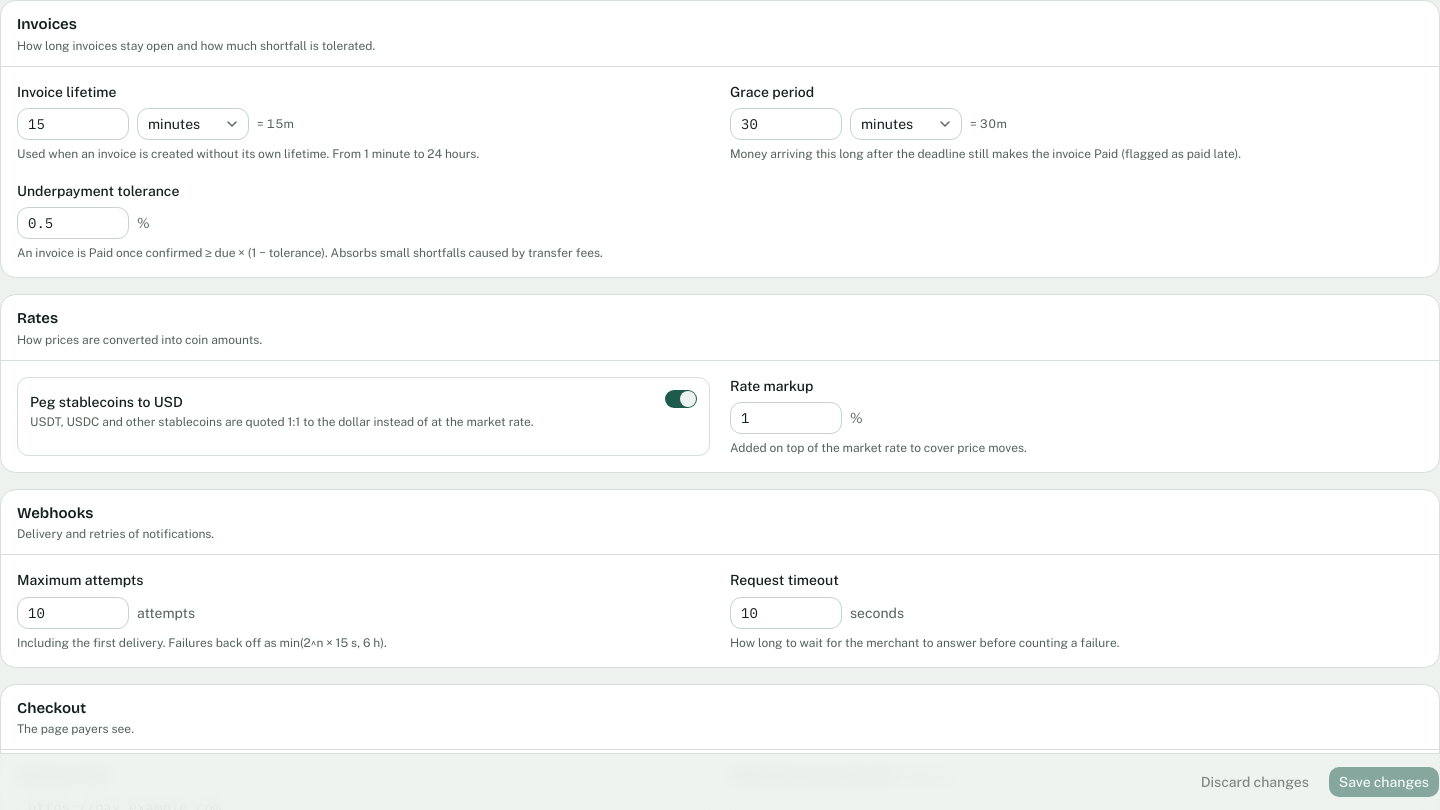
Test: SettingsForm › validates in operator units before saving
The width and height of the screenshot is (1440, 810).
Replace the text in the field labelled "Underpayment tolerance" with "0.555": x=73, y=223 17,207 -> 129,239
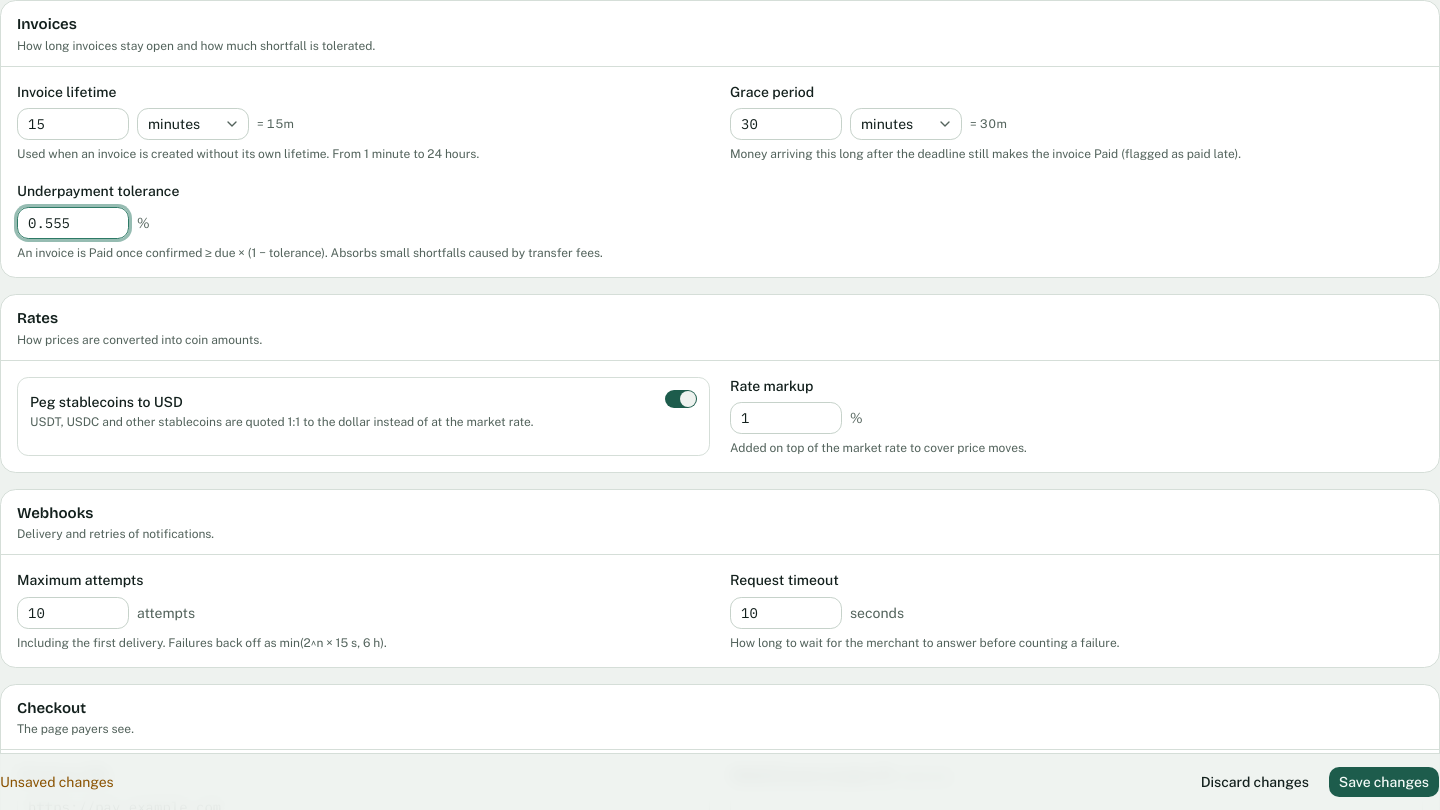
Clear the field labelled "Maximum attempts": x=73, y=612 17,596 -> 129,628
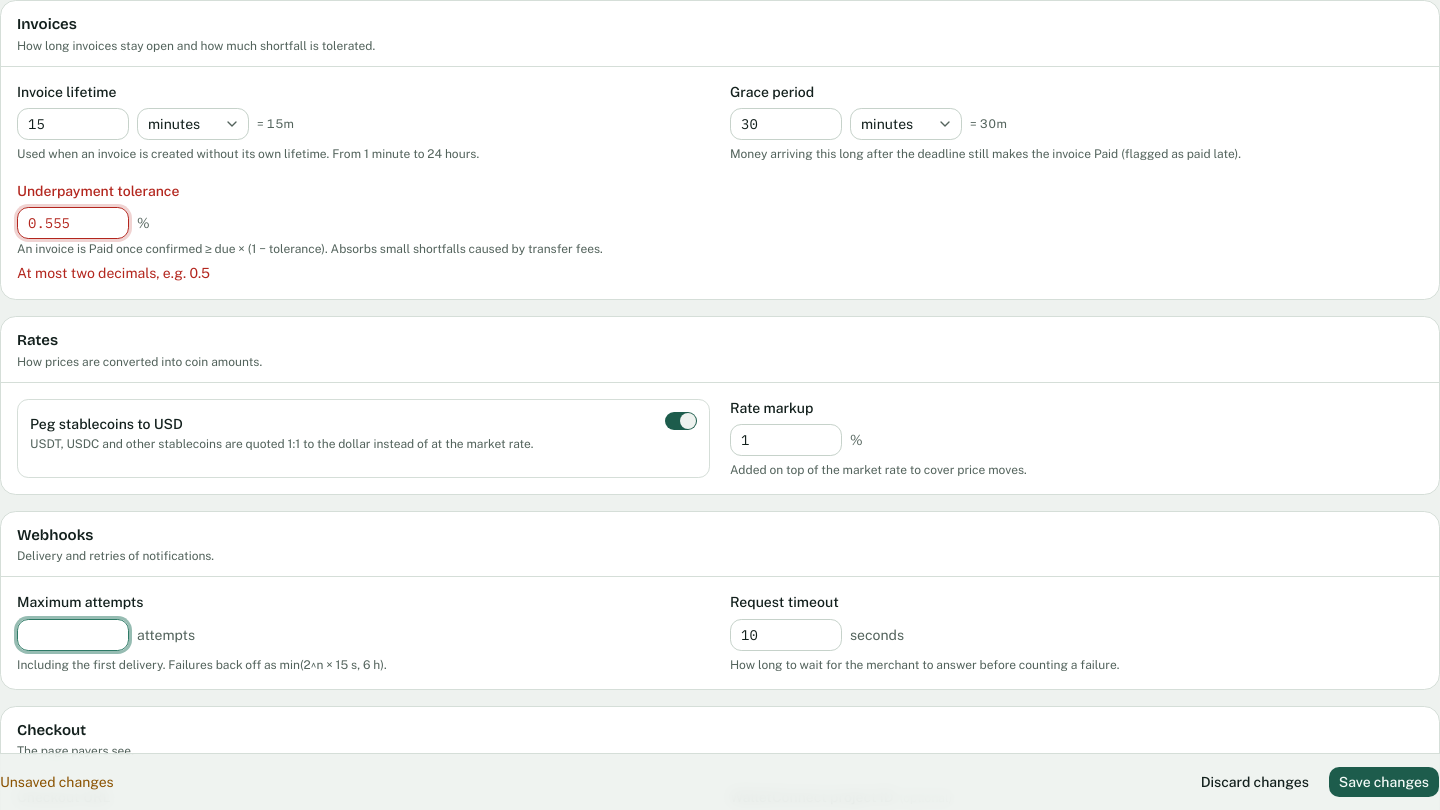
In the field labelled "Maximum attempts": x=73, y=634 17,618 -> 129,650, type "99"
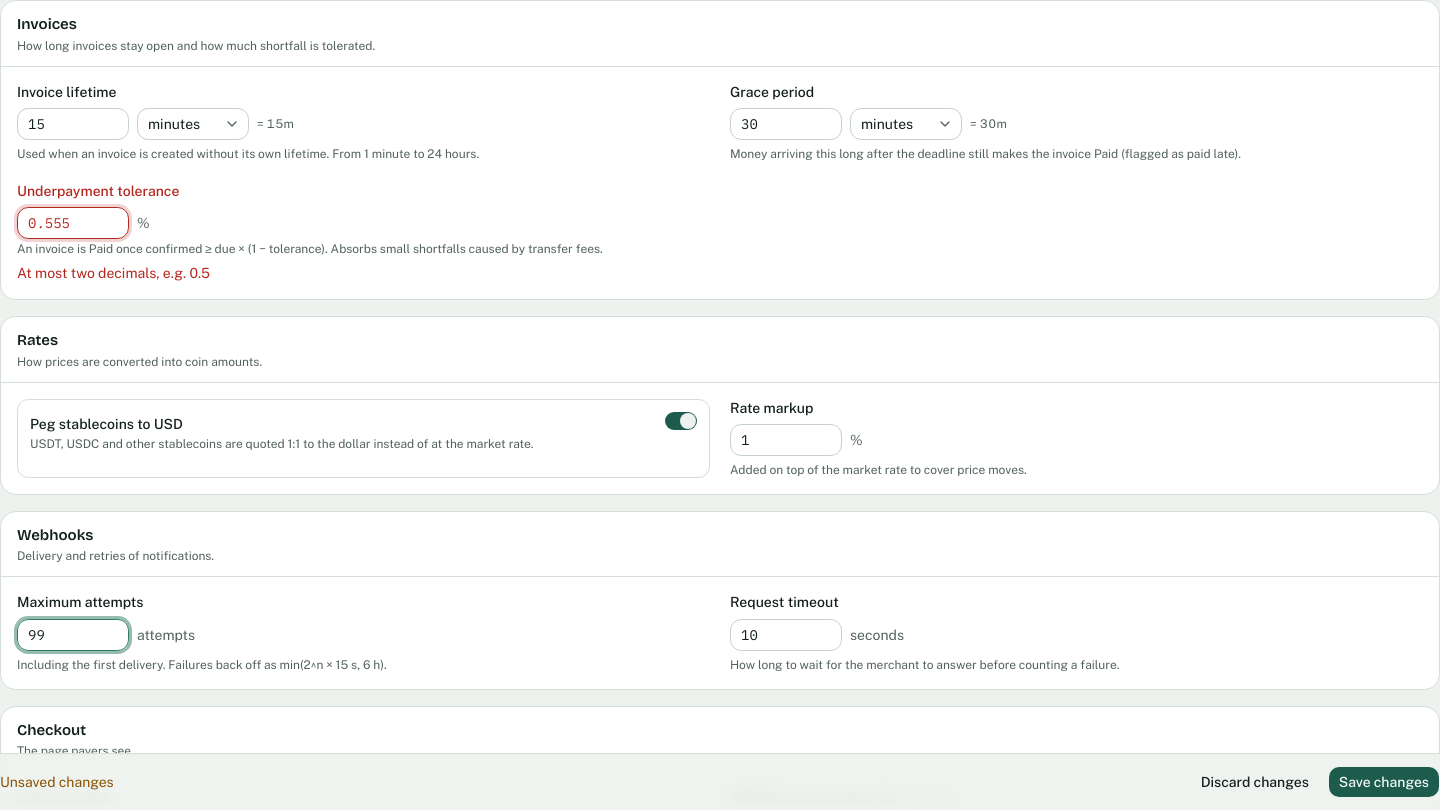
Click the button "Save changes": x=1384, y=782 1328,766 -> 1439,798
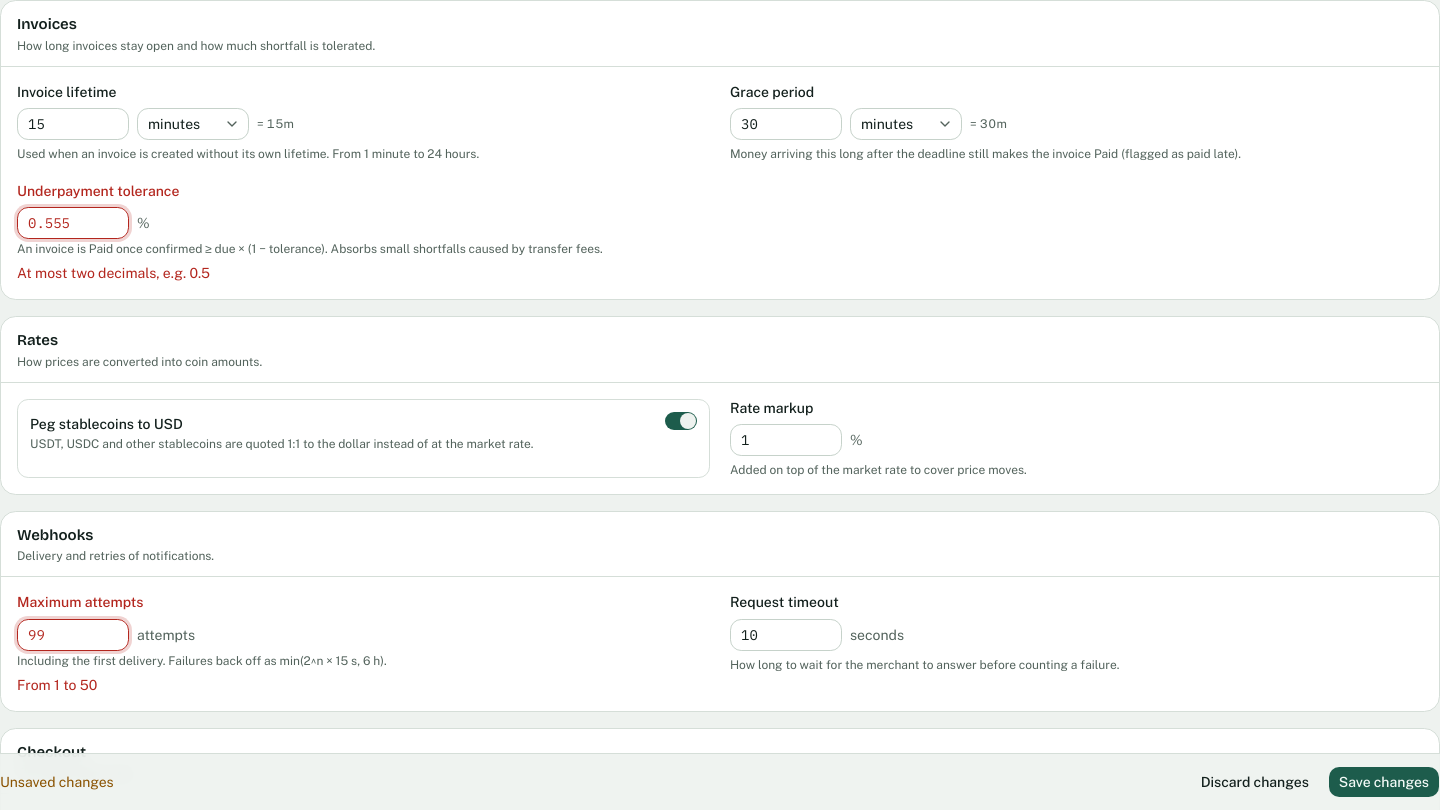
Result: the text "At most two decimals, e.g. 0.5" is shown at 17,265 -> 210,281
Result: the text "From 1 to 50" is shown at 17,676 -> 97,692
